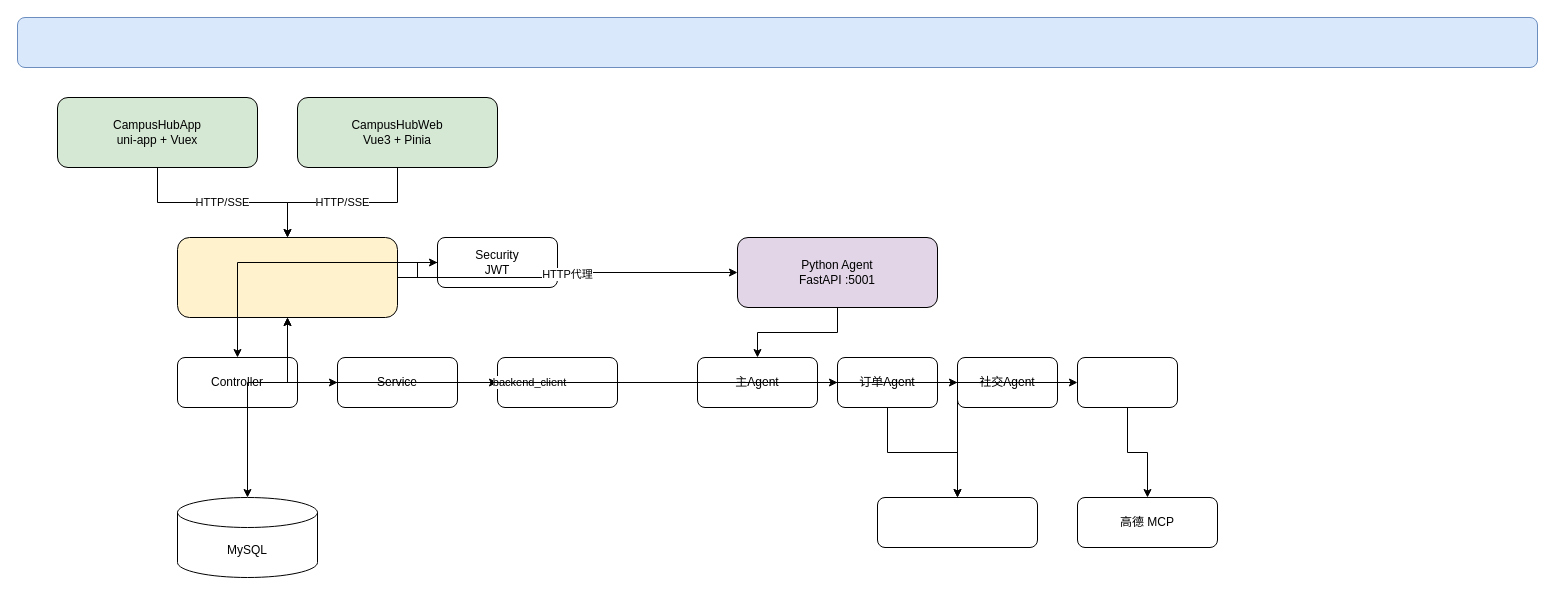
Image size: 1555x595. Some labels were removed from this diagram. The centre of each missing label's shape, as x and y in pixels:
"Qwen API 硅基流动" goes at pixel 957 522.
"Repository" goes at pixel 557 382.
"Spring Boot API :8080 /api/v1" goes at pixel 287 277.
"地图Agent" goes at pixel 1127 382.
"校园约伴平台 — 组件图 (Component Diagram)" goes at pixel 777 42.
